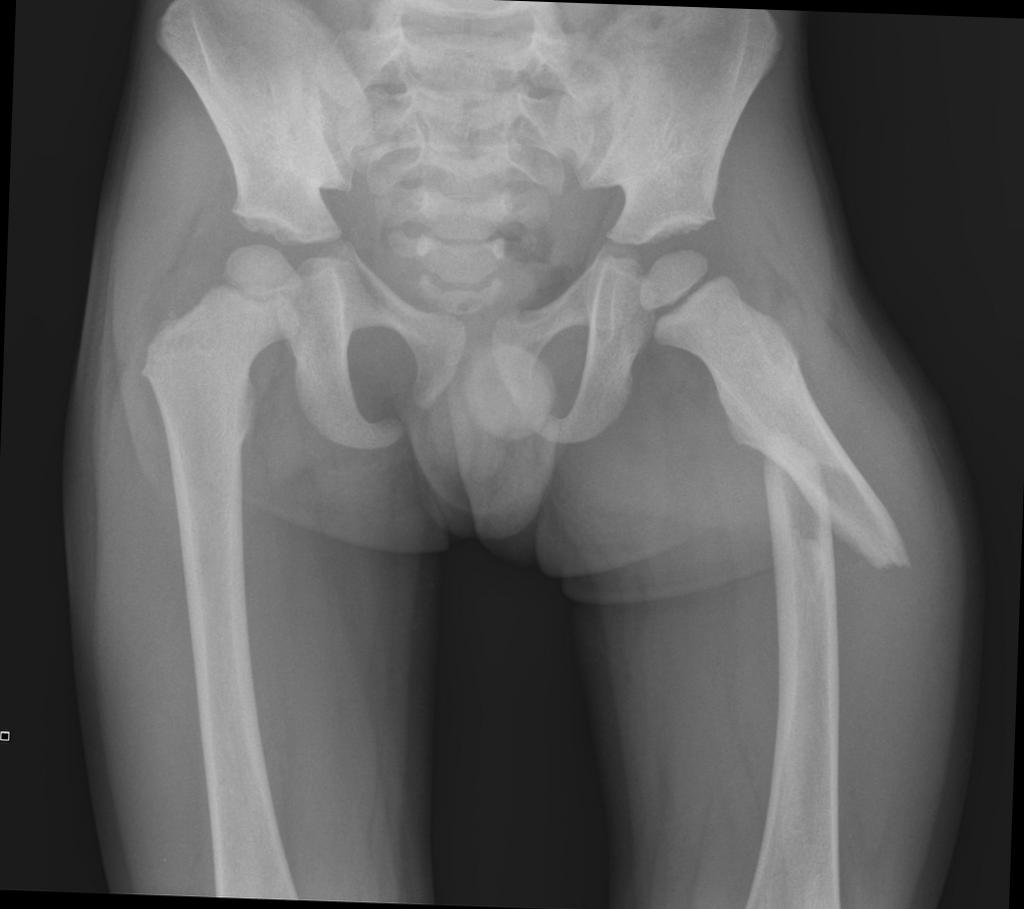messed_up_angle: (752, 438, 922, 574)
